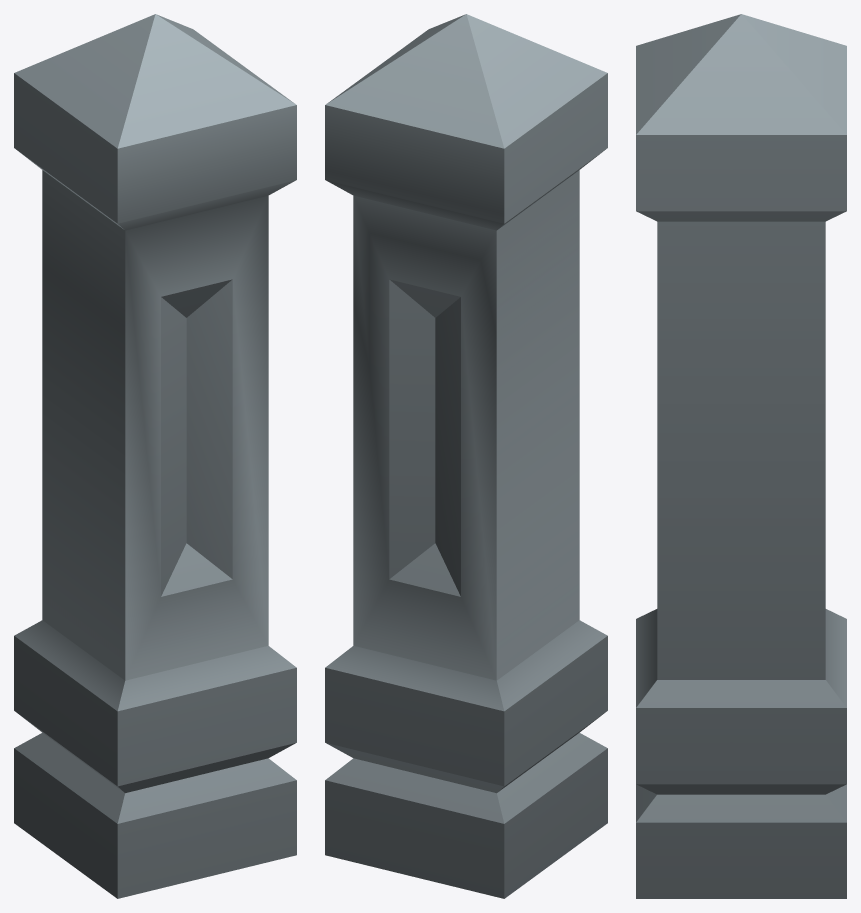
File: fence_pillar.glb
The picture shows the model from 3 angles, left to right: view 1: azimuth 30°, elevation 25°; view 2: azimuth 150°, elevation 25°; view 3: azimuth 270°, elevation 25°; orthographic projection.
Parts seen in each view (by area): view 1: fence_pillar; view 2: fence_pillar; view 3: fence_pillar.
Boxes of the visible parts, box(x1,y1,x2,y2) form: fence_pillar: box(14, 14, 296, 898); fence_pillar: box(325, 14, 607, 898); fence_pillar: box(636, 14, 846, 898).
Size of the model in its own units: 0.5 by 2.2 by 0.5.
1 material, 1 textured.
